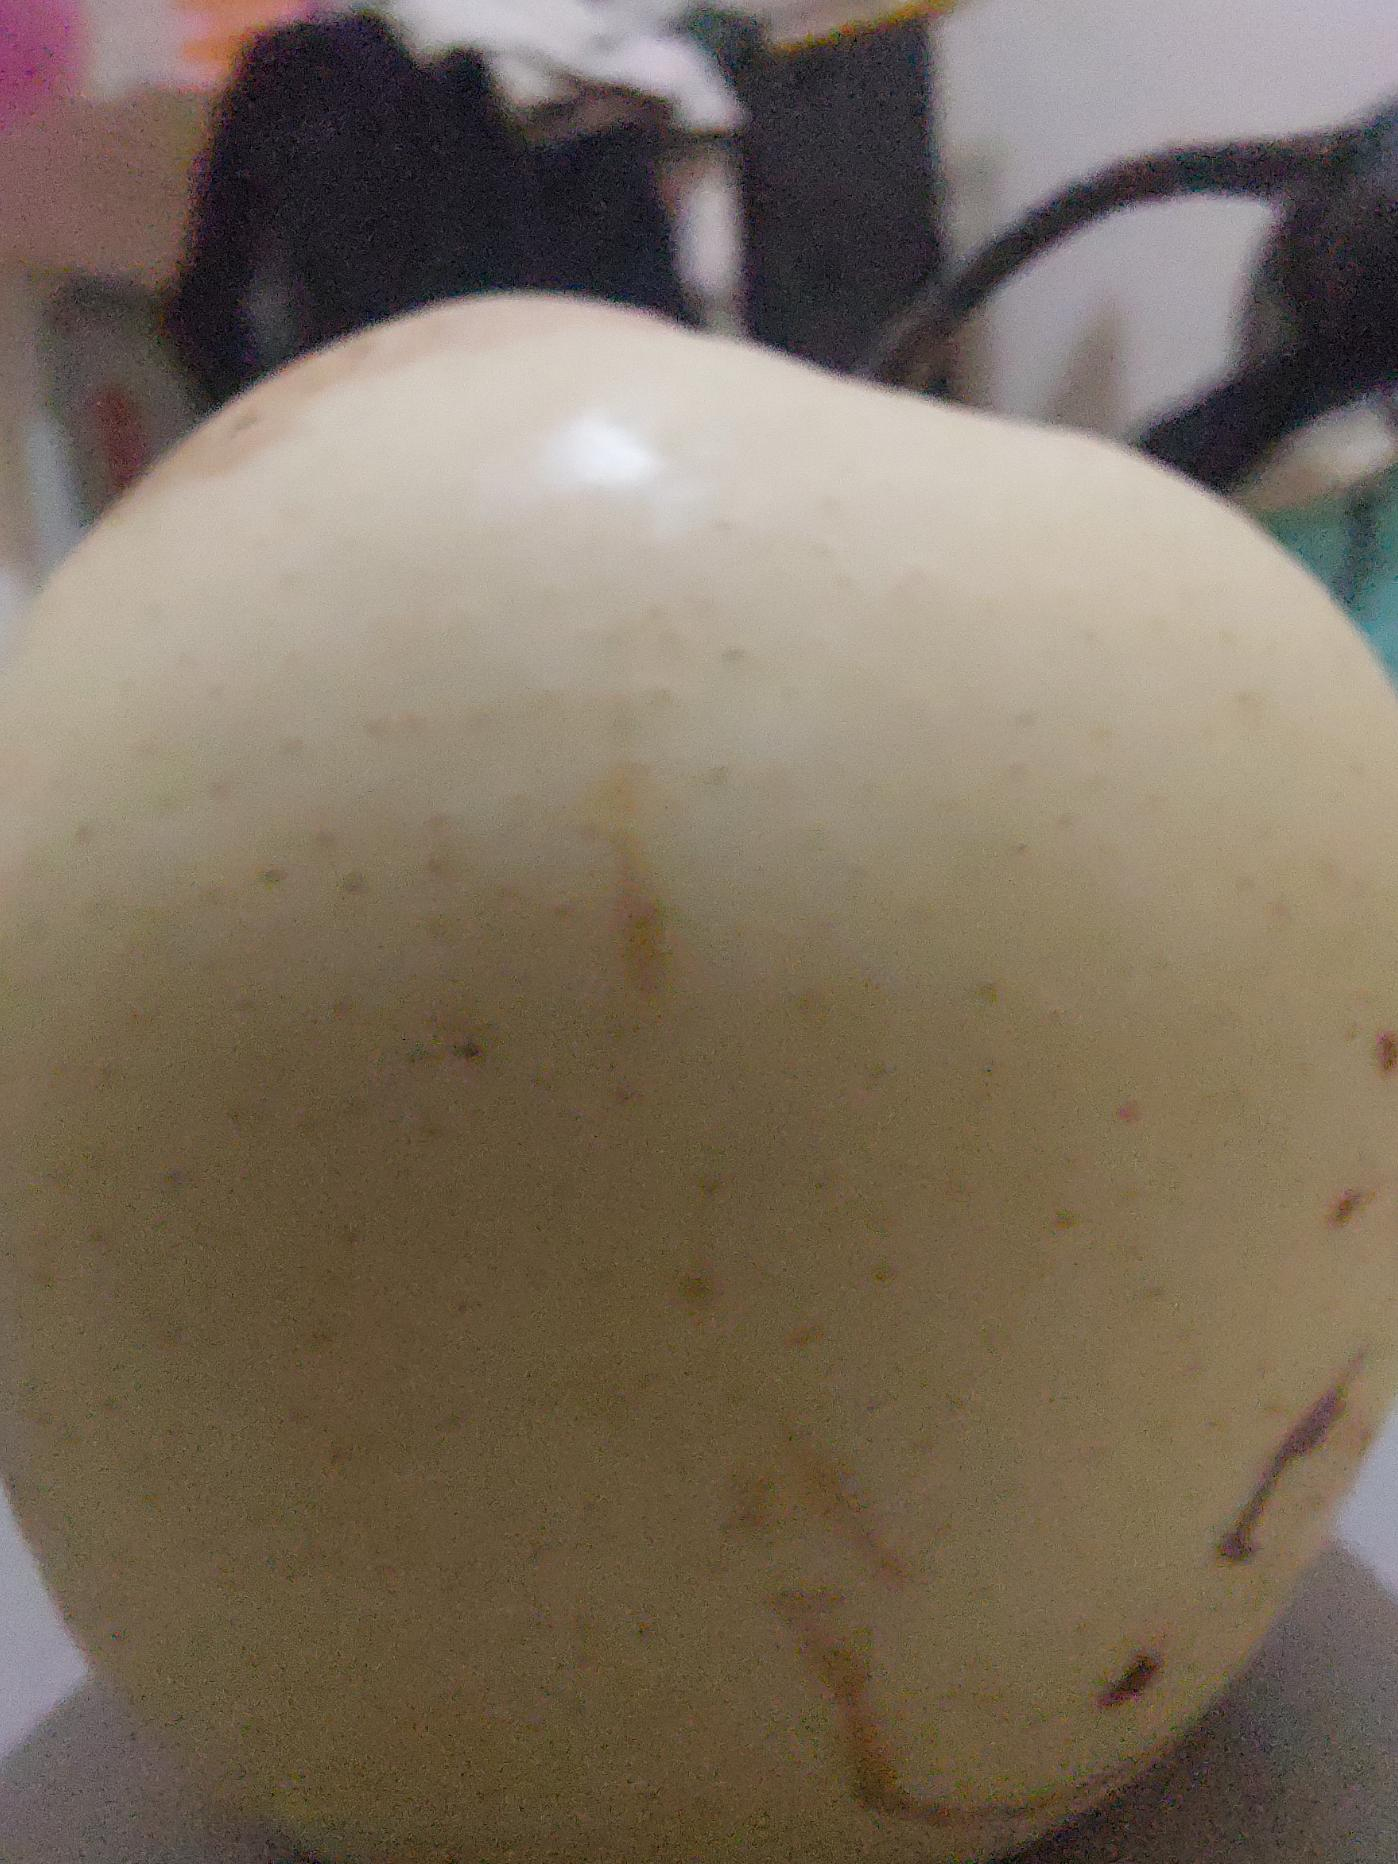Bad Pear: (0, 272, 1398, 1864)
